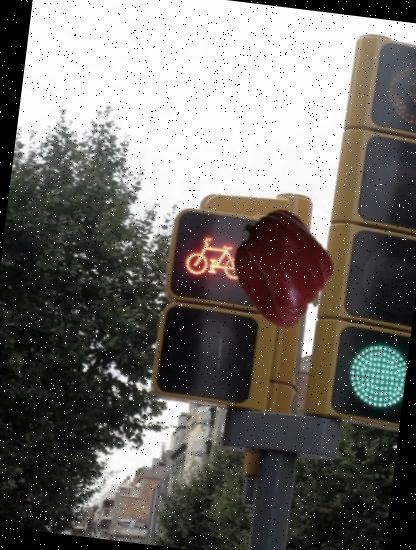Pepper: (220, 208, 340, 328)
